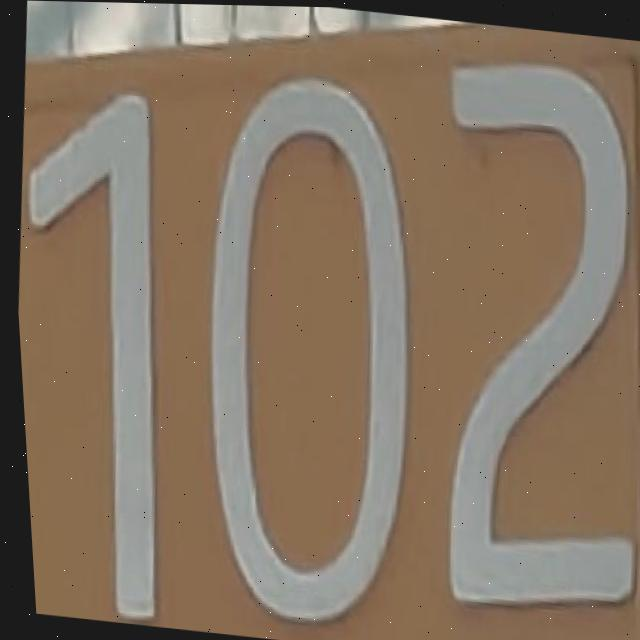character: (165, 61, 457, 640), (396, 47, 640, 630), (4, 70, 207, 628)
